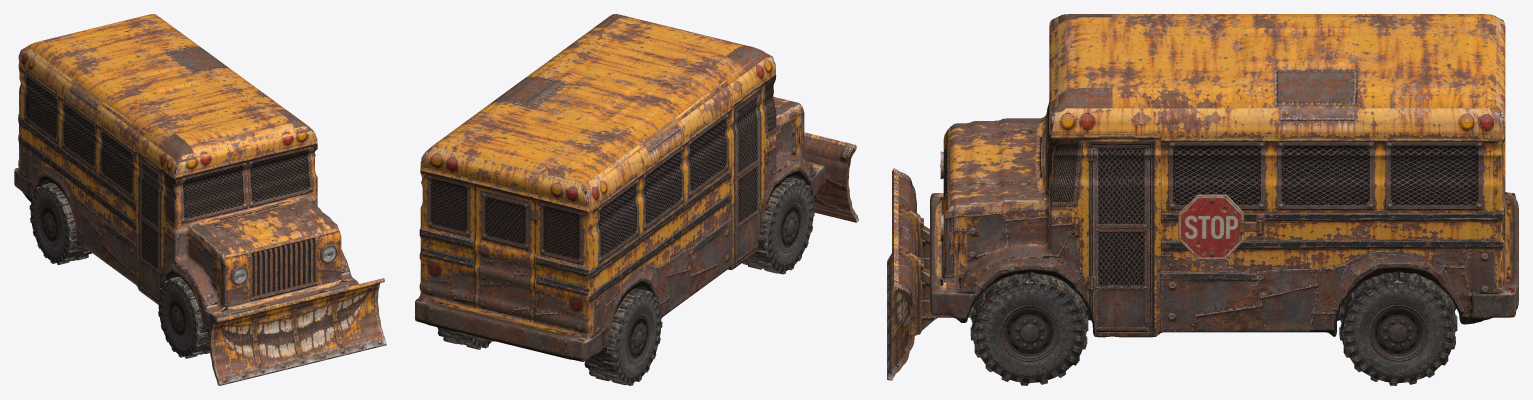
File: bully.glb
3 renders of one model, left to right at view 1: azimuth 30°, elevation 25°; view 2: azimuth 150°, elevation 25°; view 3: azimuth 270°, elevation 25°, orthographic. The views are drawn at different scales.
Parts seen in each view (by area): view 1: bully body, bully plough, bully wheel rear-right, bully wheel front-right; view 2: bully body, bully wheel rear-right, bully wheel front-right, bully plough, bully wheel rear-left; view 3: bully body, bully wheel rear-left, bully wheel front-left, bully plough, bully stop-paddle.
Boxes of the visible parts, x1,y1,x2,y2 form: bully body: [14, 14, 358, 330]; bully plough: [209, 278, 386, 385]; bully wheel rear-right: [29, 183, 91, 264]; bully wheel front-right: [157, 276, 209, 358]; bully body: [415, 14, 825, 361]; bully wheel rear-right: [584, 288, 662, 385]; bully wheel front-right: [742, 177, 814, 274]; bully plough: [804, 132, 858, 222]; bully wheel rear-left: [437, 327, 494, 349]; bully body: [930, 14, 1518, 337]; bully wheel rear-left: [1339, 271, 1457, 385]; bully wheel front-left: [970, 272, 1088, 385]; bully plough: [887, 168, 970, 380]; bully stop-paddle: [1178, 194, 1264, 260].
Bounding box in the file's own units: 2.56 × 2.88 × 5.82.
Materials: 9 (8 with a texture image).
